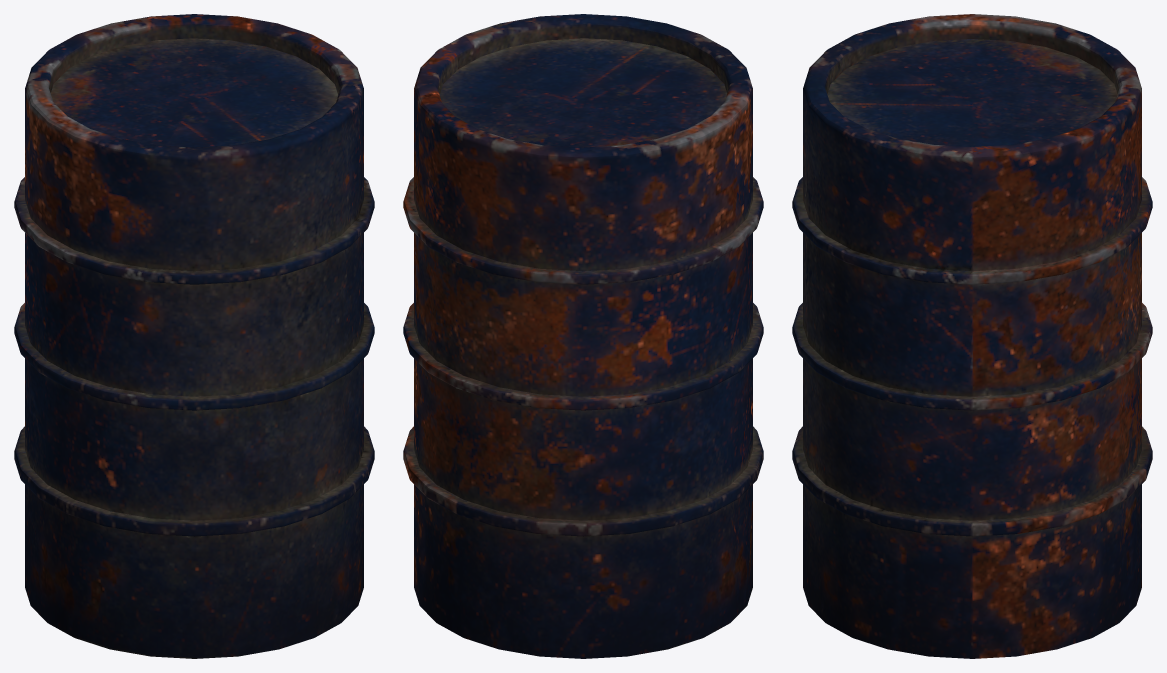
File: SM_Misc_LP_pCylinder3.fbx
3 renders of one model, left to right at view 1: azimuth 30°, elevation 25°; view 2: azimuth 150°, elevation 25°; view 3: azimuth 270°, elevation 25°, orthographic.
Visible parts, largest first — view 1: SM_Misc_LP_pCylinder3_LOD0; view 2: SM_Misc_LP_pCylinder3_LOD0; view 3: SM_Misc_LP_pCylinder3_LOD0.
Boxes of the visible parts, x1,y1,x2,y2 form: SM_Misc_LP_pCylinder3_LOD0: (14,14,374,658); SM_Misc_LP_pCylinder3_LOD0: (403,14,763,658); SM_Misc_LP_pCylinder3_LOD0: (792,14,1152,658).
Bounding box in the file's own units: 64.88 × 64.88 × 100.
Materials: 1 (1 with a texture image).
